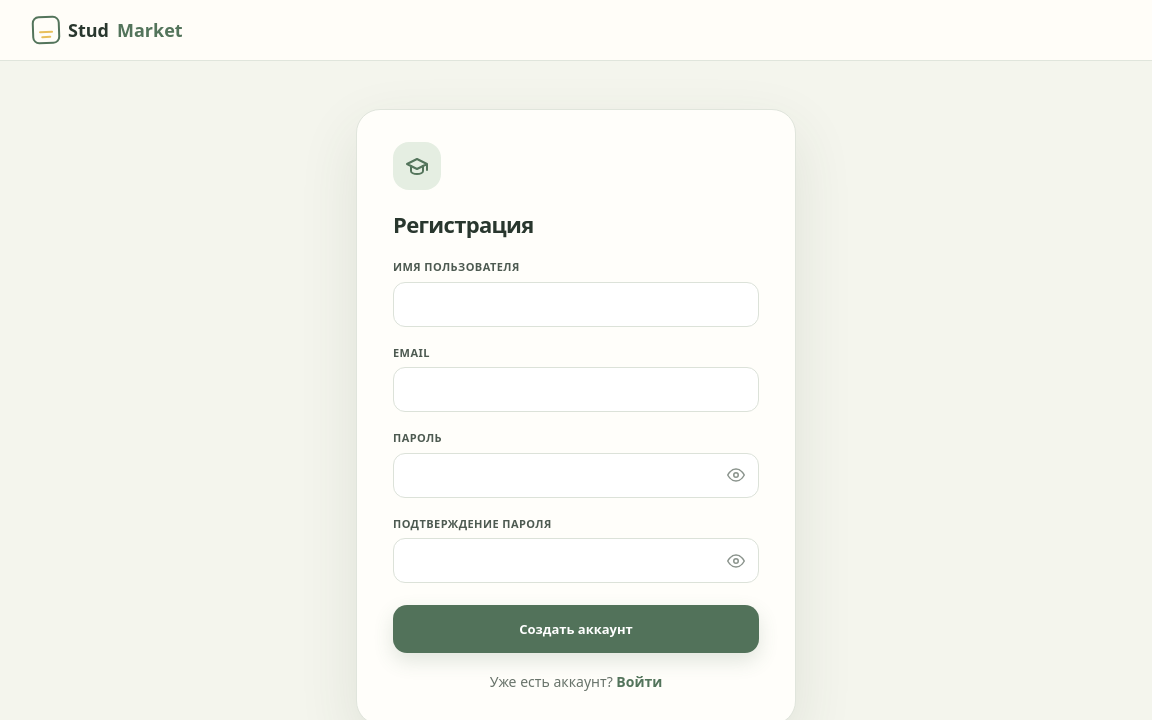
Test: RegisterPage › maps server field validation errors to the inputs
Type "alice" into the field labelled "Имя пользователя" at (576, 304), box [393,282,759,326]
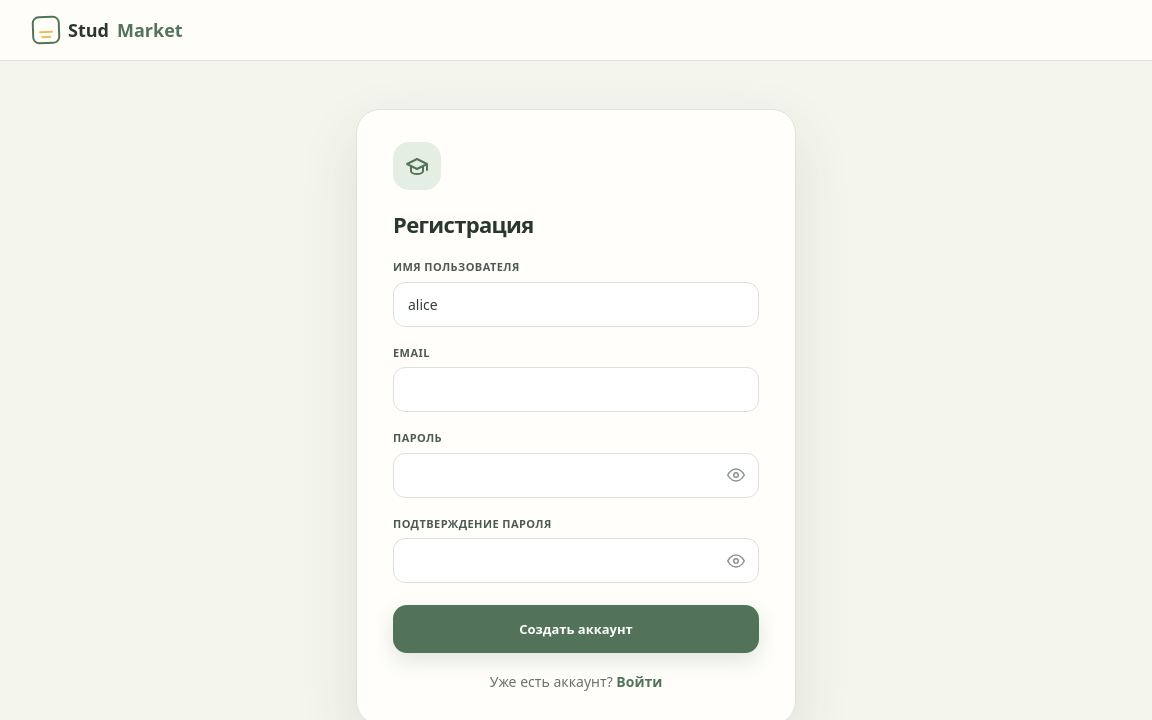
Type "alice@example.com" into the field labelled "Email" at (576, 390), box [393,367,759,412]
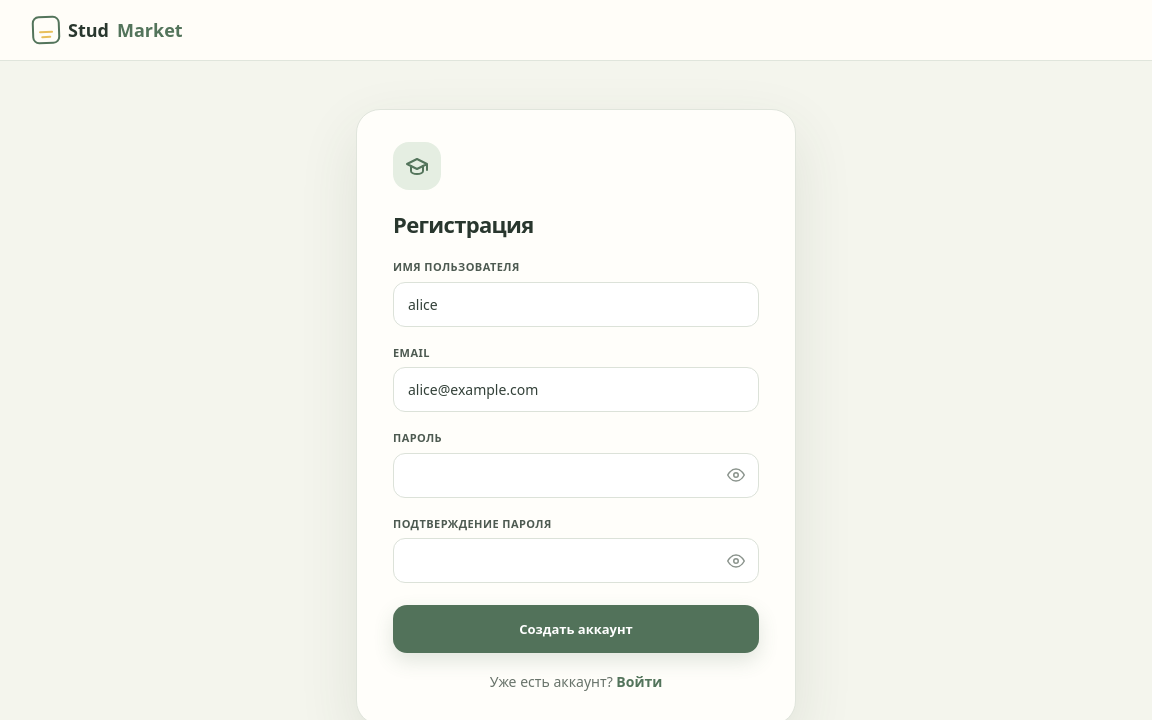
Type "Secret123" into the password field labelled "Пароль" at (576, 475), box [393,452,759,498]
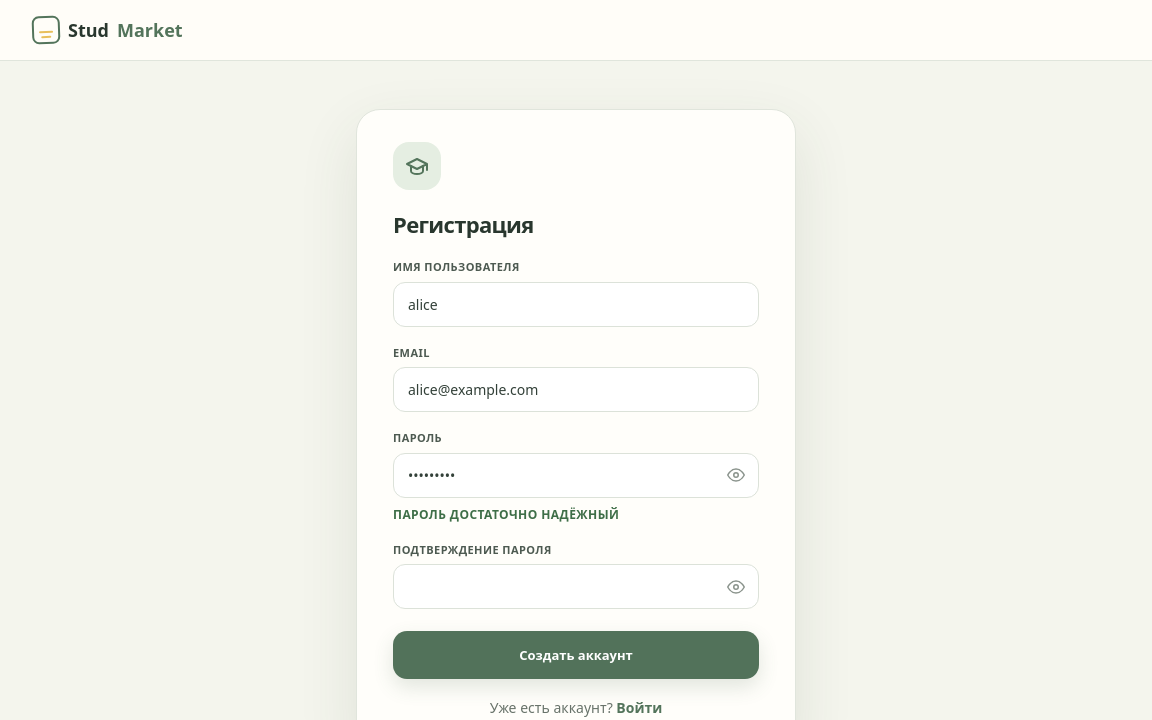
Type "Secret123" into the password field labelled "Подтверждение пароля" at (576, 586), box [393,564,759,609]
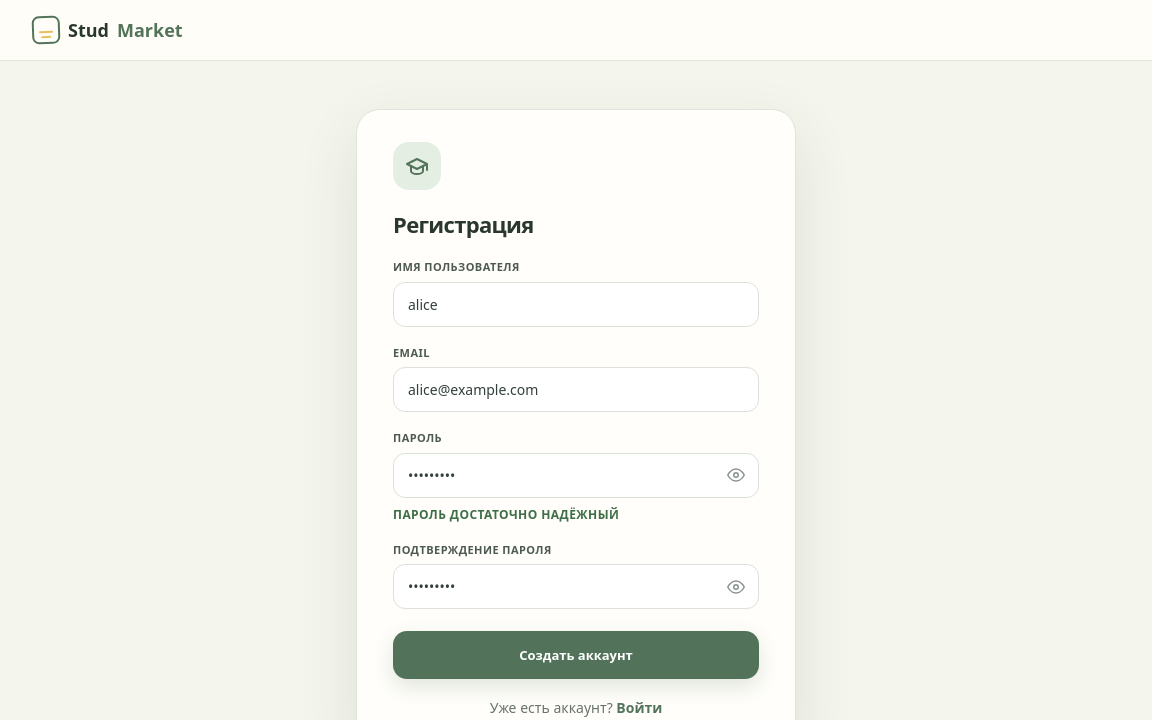
Click the button "Создать аккаунт" at (576, 655), box [393,631,759,679]
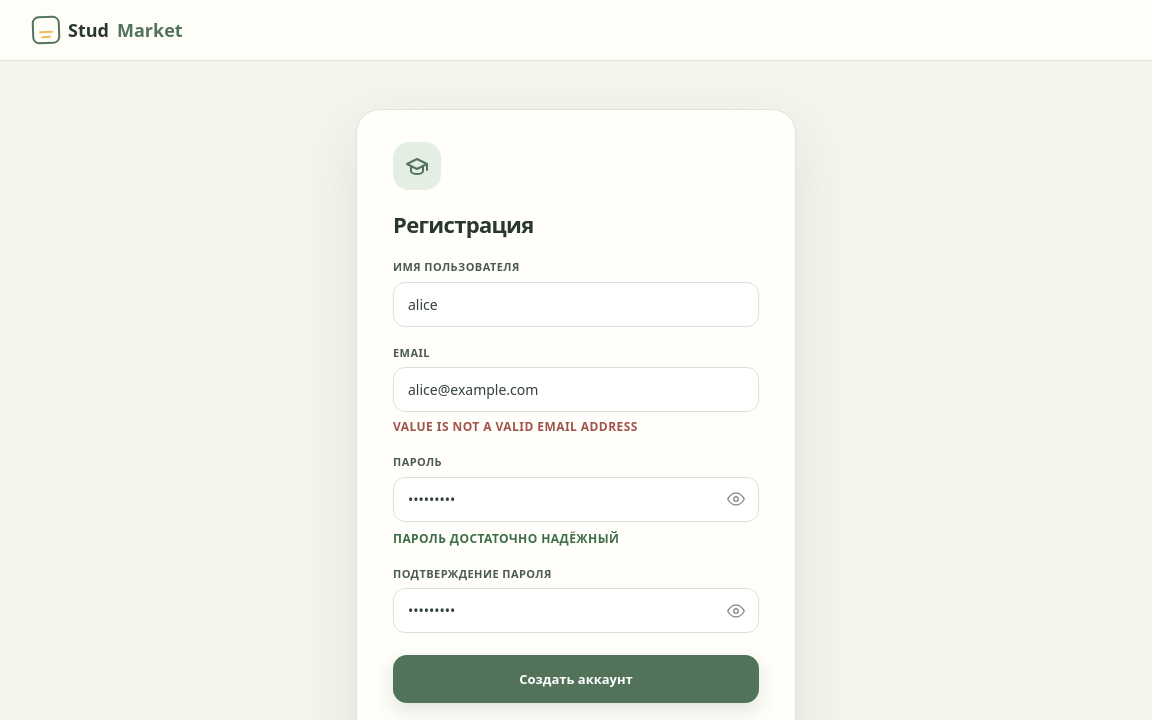
Expected: the text "value is not a valid email address" is shown, [393,418,638,435]
